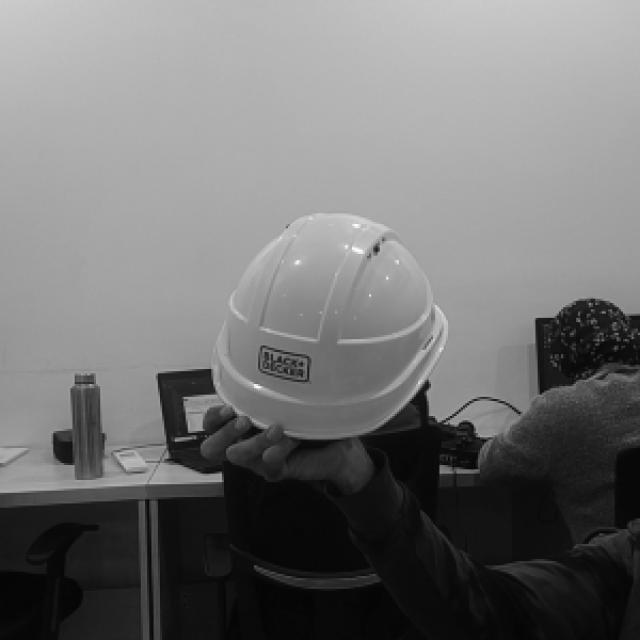safety_helmet: (212, 211, 449, 442)
